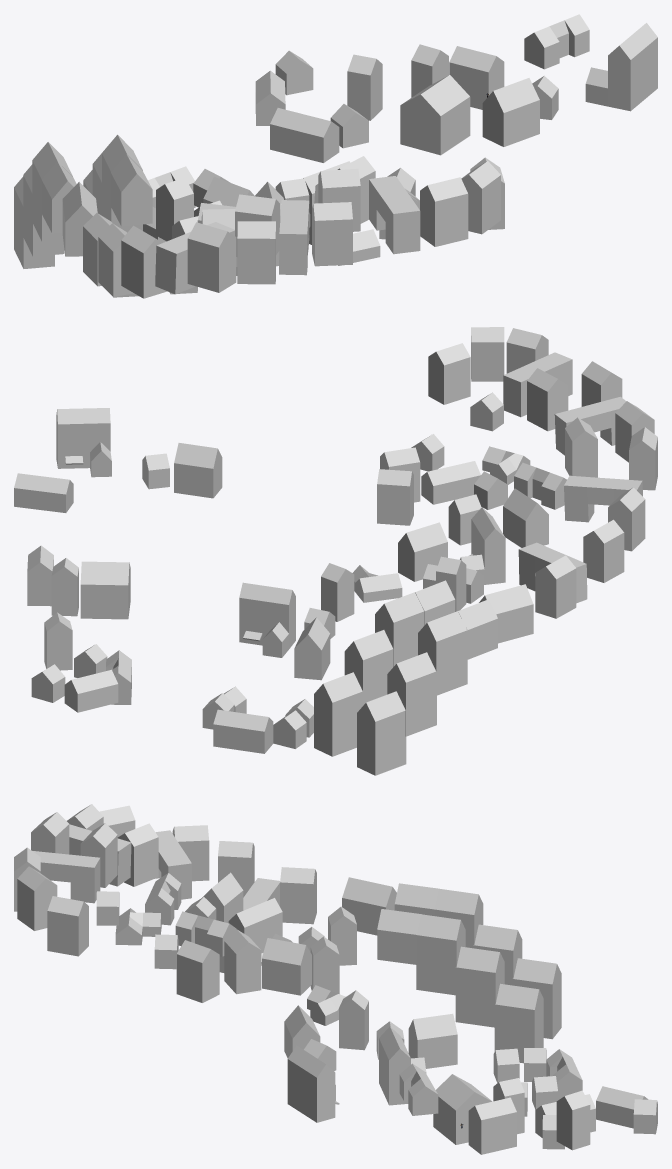
Rendered from gdsgds.fbx.
The picture shows the model from 3 angles, top to bottom: view 1: azimuth 30°, elevation 25°; view 2: azimuth 150°, elevation 25°; view 3: azimuth 270°, elevation 25°; orthographic projection. The views are drawn at different scales.
Visible parts, largest first — view 1: Cube.045, Cube.041, Cube.042, Cube, Cube.054, Cube.051, Cube.021, Cube.052, Cube.053, Cube.039, Cube.026, Cube.038 (+31 smaller); view 2: Cube.014, Cube.030, Cube.041, Cube.031, Cube.032, Cube.029, Cube.045, Cube.028, Cube.042, Cube.027, Cube.002, Cube.009 (+43 smaller); view 3: Cube.028, Cube.027, Cube.031, Cube.041, Cube.013, Cube.038, Cube.019, Cube.045, Cube.043, Cube.049, Cube, Cube.030 (+44 smaller).
Boxes of the visible parts, left/top/right/bottom form: Cube.045: left=400, top=75, right=470, bottom=155; Cube.041: left=585, top=23, right=657, bottom=111; Cube.042: left=482, top=78, right=539, bottom=146; Cube: left=369, top=176, right=420, bottom=254; Cube.054: left=187, top=222, right=236, bottom=292; Cube.051: left=420, top=177, right=468, bottom=246; Cube.021: left=270, top=108, right=339, bottom=162; Cube.052: left=312, top=202, right=352, bottom=266; Cube.053: left=237, top=221, right=275, bottom=284; Cube.039: left=524, top=14, right=589, bottom=69; Cube.026: left=111, top=154, right=152, bottom=226; Cube.038: left=449, top=46, right=504, bottom=109; Cube.014: left=239, top=582, right=295, bottom=657; Cube.030: left=357, top=691, right=406, bottom=775; Cube.041: left=56, top=408, right=111, bottom=477; Cube.031: left=314, top=672, right=362, bottom=756; Cube.032: left=418, top=611, right=467, bottom=695; Cube.029: left=387, top=652, right=436, bottom=736; Cube.045: left=80, top=561, right=130, bottom=619; Cube.028: left=344, top=630, right=393, bottom=705; Cube.042: left=174, top=443, right=222, bottom=498; Cube.027: left=375, top=592, right=424, bottom=666; Cube.002: left=564, top=475, right=642, bottom=522; Cube.009: left=460, top=507, right=505, bottom=584; Cube.028: left=455, top=946, right=504, bottom=1027; Cube.027: left=416, top=914, right=465, bottom=995; Cube.031: left=494, top=983, right=543, bottom=1063; Cube.041: left=287, top=1045, right=339, bottom=1122; Cube.013: left=262, top=938, right=311, bottom=995; Cube.038: left=468, top=1097, right=516, bottom=1154; Cube.019: left=408, top=1013, right=457, bottom=1068; Cube.045: left=433, top=1074, right=492, bottom=1144; Cube.043: left=176, top=940, right=219, bottom=1002; Cube.049: left=47, top=896, right=88, bottom=956; Cube: left=32, top=851, right=100, bottom=903; Cube.030: left=512, top=958, right=561, bottom=1039.
Bounding box in the file's own units: 28738 × 11847 × 30292.
